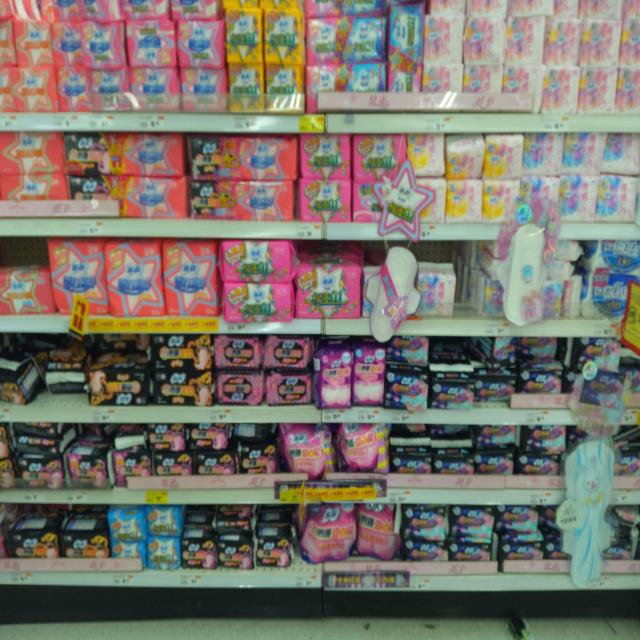empty: (447, 251, 492, 325)
